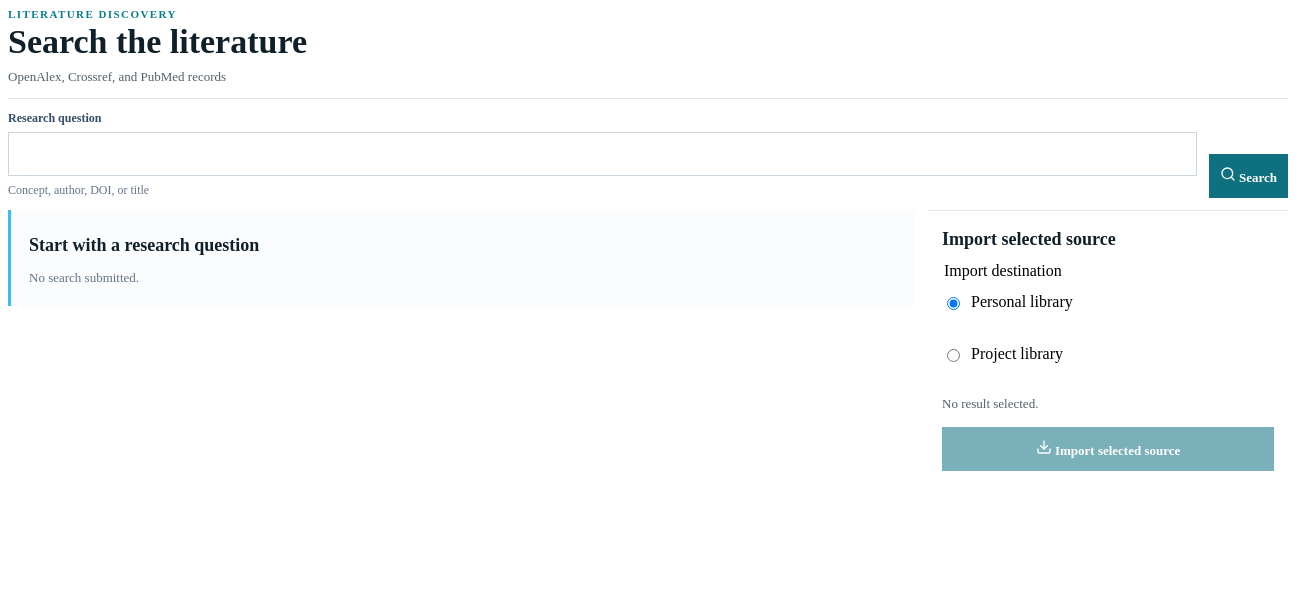
Scenario: LiteratureSearchPage › keeps partial provider warnings visible while paging results
Type "evidence synthesis" into the field with test id "literature-search-query" at (602, 154), box left=8, top=132, right=1197, bottom=176
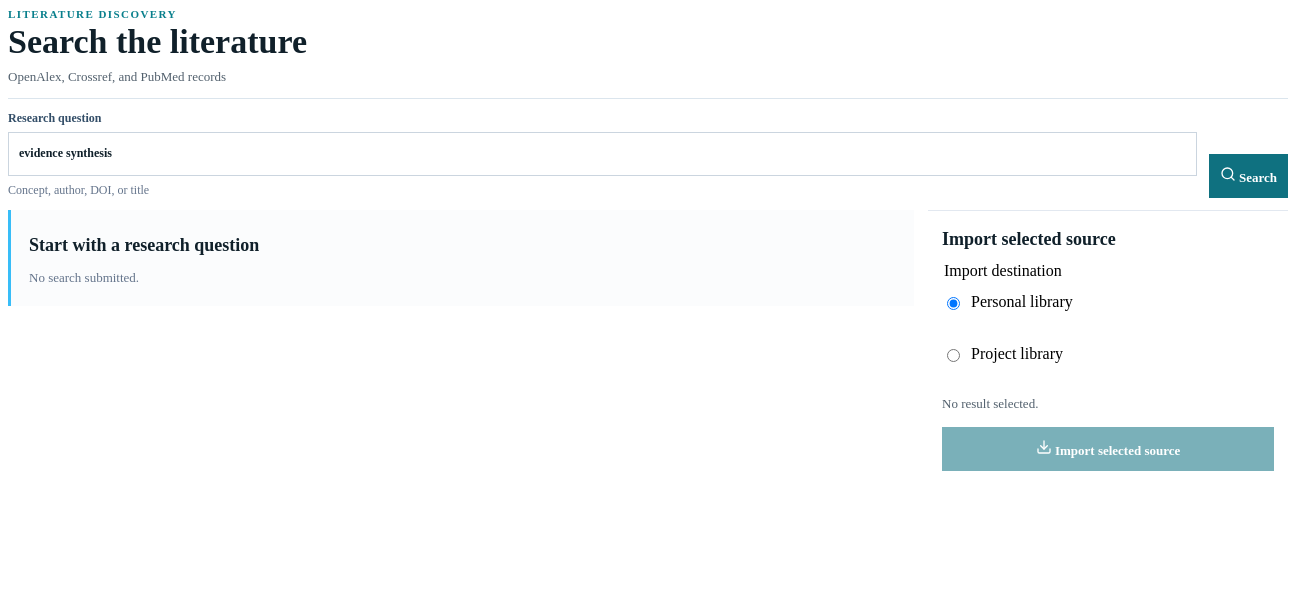
Submit the form with test id "literature-search-submit", box left=8, top=110, right=1288, bottom=198
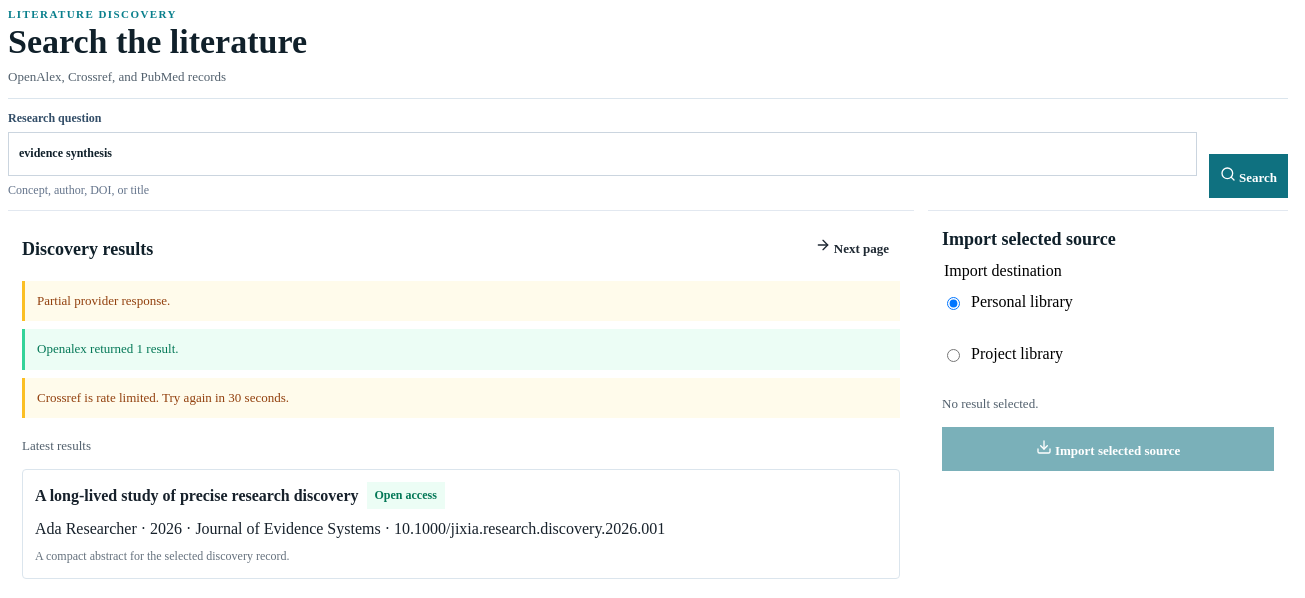
Check: the text "A long-lived study of precise research discovery" is shown, box left=35, top=484, right=358, bottom=507
Check: the message "Openalex returned 1 result." is shown, box left=22, top=330, right=900, bottom=370
Check: the message "Partial provider response." is shown, box left=22, top=281, right=900, bottom=321
Click the button "Next page" at (852, 247), box left=804, top=225, right=900, bottom=269
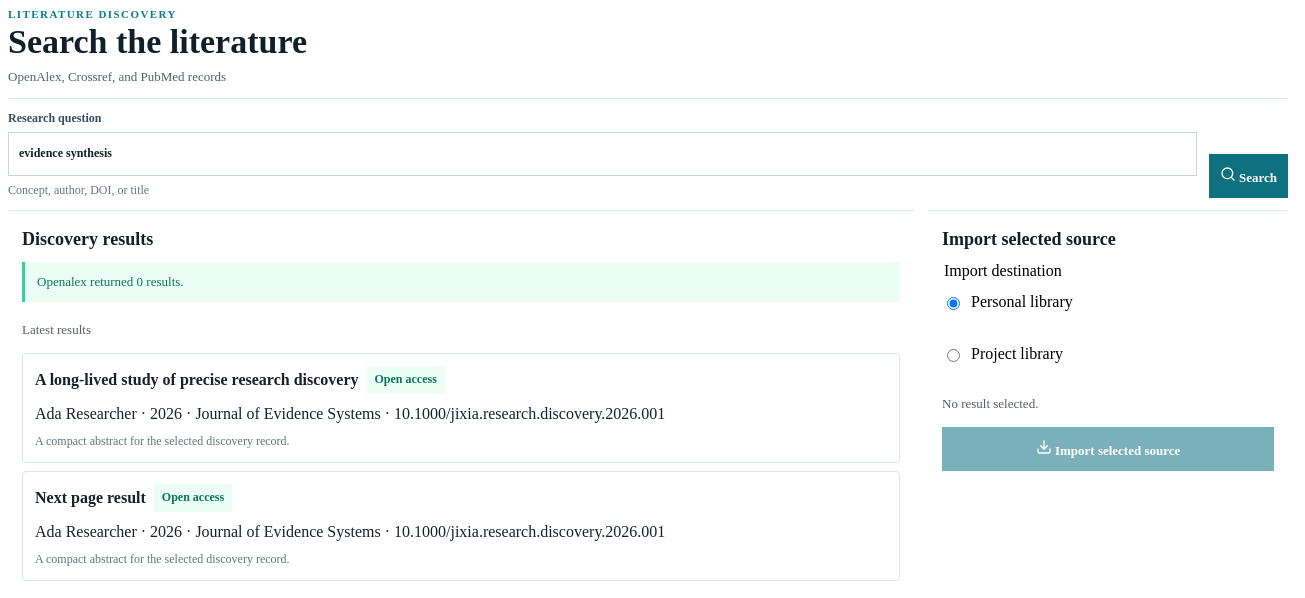
Check: the text "Next page result" is shown, box left=35, top=486, right=146, bottom=510
